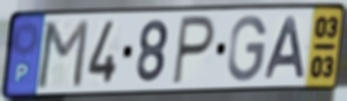4: (85, 18, 119, 88)
8: (135, 18, 170, 86)
A: (263, 14, 308, 81)
G: (225, 13, 269, 85)
M: (34, 17, 92, 91)
P: (170, 14, 217, 88)
